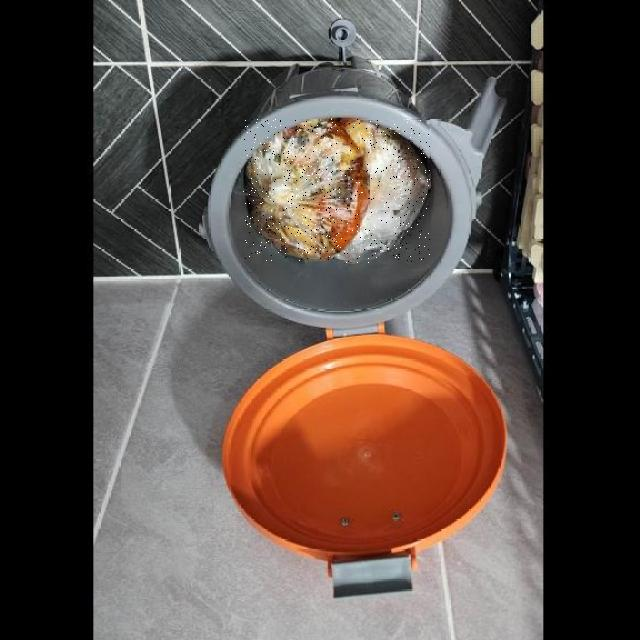biowaste: (243, 119, 369, 261)
plastic: (335, 119, 430, 263)
